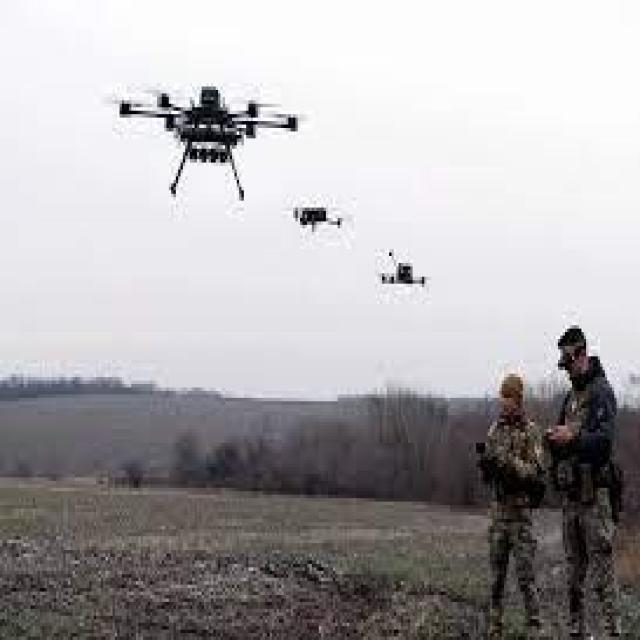drone: (110, 79, 308, 206), (286, 194, 352, 247), (376, 249, 432, 300)
